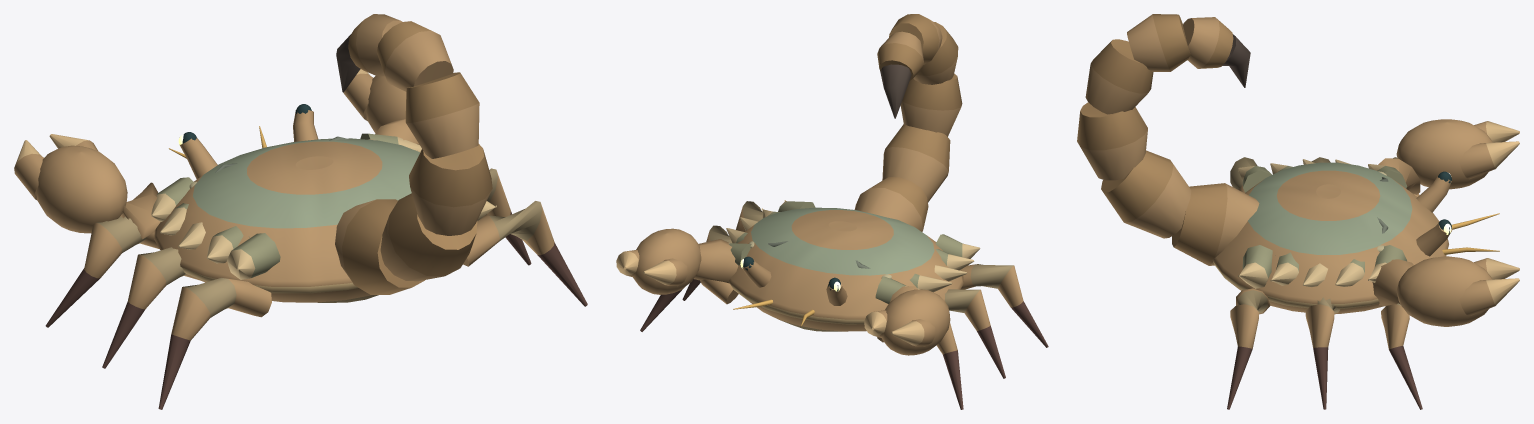
The model's file is desert_champion.glb.
3 renders of one model, left to right at view 1: azimuth 30°, elevation 25°; view 2: azimuth 150°, elevation 25°; view 3: azimuth 270°, elevation 25°, orthographic. The views are drawn at different scales.
Parts seen in each view (by area): view 1: Body, Walk06, Walk04, Walk05, Walk00, Walk02, Walk07, Walk03; view 2: Body, Walk07, Walk06, Walk04, Walk02, Walk01, Walk00, Walk03, Walk05; view 3: Body, Walk07, Walk06, Walk05, Walk03, Walk01, Walk04.
Boxes of the visible parts, box(x1,y1,x2,y2) form: Body: box(151, 14, 496, 302); Walk06: box(14, 134, 160, 239); Walk04: box(158, 278, 271, 409); Walk05: box(463, 201, 587, 306); Walk00: box(45, 216, 159, 327); Walk02: box(102, 247, 200, 368); Walk07: box(343, 69, 419, 144); Walk03: box(487, 168, 531, 265); Body: box(726, 14, 980, 331); Walk07: box(616, 228, 738, 294); Walk06: box(864, 286, 950, 355); Walk04: box(960, 264, 1048, 347); Walk02: box(944, 289, 1005, 378); Walk01: box(640, 279, 738, 331); Walk00: box(877, 323, 963, 409); Walk03: box(682, 225, 731, 300); Walk05: box(736, 201, 762, 231); Body: box(1077, 14, 1499, 313); Walk07: box(1372, 256, 1519, 326); Walk06: box(1378, 119, 1519, 194); Walk05: box(1227, 288, 1270, 409); Walk03: box(1305, 297, 1339, 409); Walk01: box(1381, 303, 1422, 409); Walk04: box(1230, 157, 1257, 192).
Bounding box in the file's own units: 1.99 × 1.59 × 2.09.
Materials: 2 (1 with a texture image).
